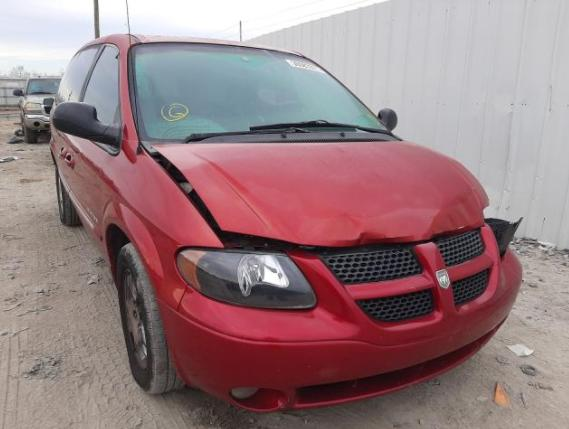Broken part: (138, 138, 494, 261), (484, 215, 524, 263)
Dent: (297, 208, 441, 246), (182, 161, 255, 218), (429, 194, 484, 241)
Missing part: (484, 196, 506, 232)
Scratch: (456, 225, 466, 231)
